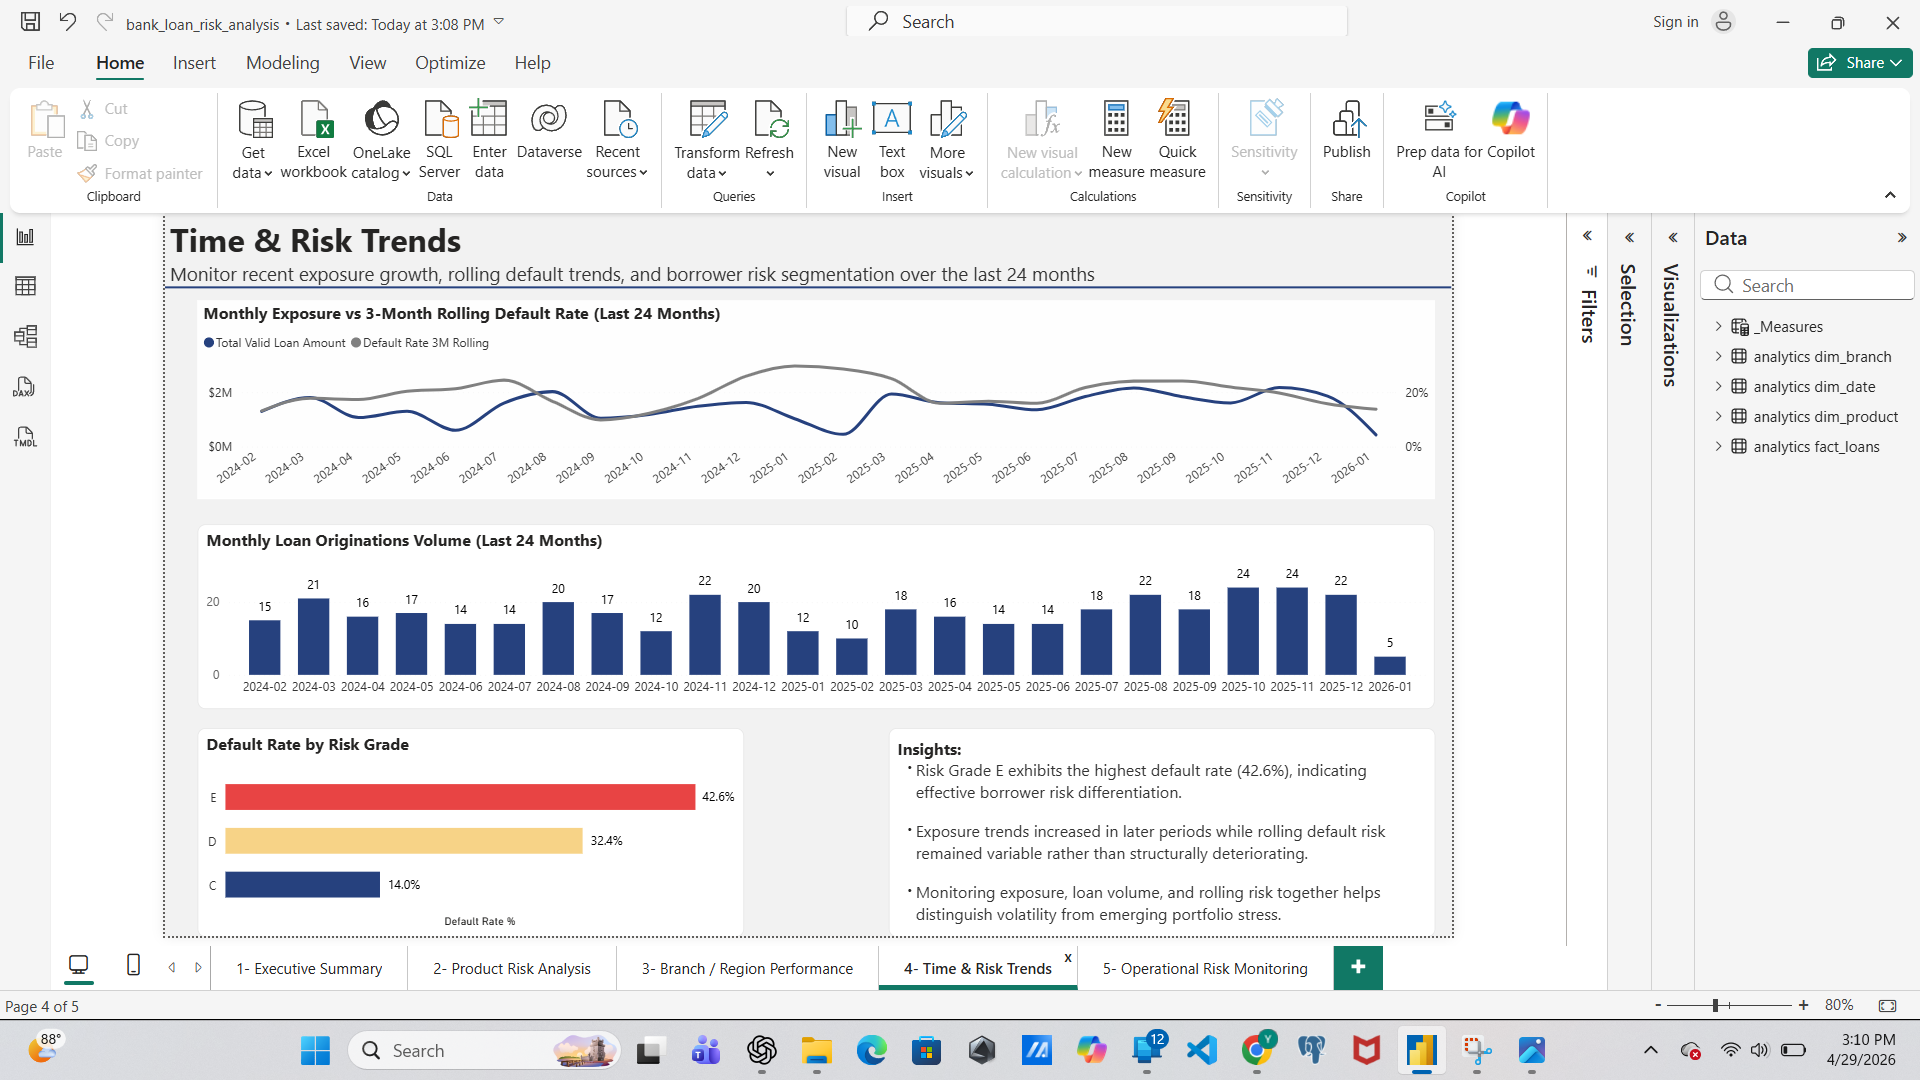

Layout of this report page (visuals, bound fields, positions):
{"tool":"powerbi","page":{"name":"4- Time & Risk Trends","canvas":[1280,720],"ordinal":3},"visuals":[{"type":"shape","box":[0,0,1280,148],"z":0},{"type":"shape","box":[0,0,1280,80],"z":1000},{"type":"textbox","box":[0,0,1280,80],"z":2000},{"type":"clusteredBarChart","title":"Default Rate by Risk Grade","fields":{"Category":["analytics fact_loans.risk_grade"],"Y":["_Measures.Default Rate %"]},"box":[32.3,512.3,543.6,207.7],"z":3000},{"type":"clusteredColumnChart","title":"Monthly Loan Originations Volume (Last 24 Months)","fields":{"Category":["analytics dim_date.year_month"],"Y":["_Measures.Total Loans"]},"box":[32.8,309.7,1231.5,184.1],"z":4000},{"type":"lineChart","title":"Monthly Exposure vs 3-Month Rolling Default Rate (Last 24 Months)","fields":{"Category":["analytics dim_date.year_month"],"Y":["_Measures.Total Valid Loan Amount"],"Y2":["_Measures.Default Rate 3M Rolling"]},"box":[32.3,87,1231.5,197.8],"z":5000},{"type":"textbox","box":[720.3,512.3,543.6,207.7],"z":6000}]}

Visuals, with their boxes on the page's 1280x720 design canvas (x1, y1, x2, y2). These are canvas units, not pixel positions in the 1920x1080 screenshot, which may show the page scaled, cropped or inside an application window:
shape: x1=0 y1=0 x2=1280 y2=148
shape: x1=0 y1=0 x2=1280 y2=80
textbox: x1=0 y1=0 x2=1280 y2=80
"Default Rate by Risk Grade" clusteredBarChart: x1=32 y1=512 x2=576 y2=720
"Monthly Loan Originations Volume (Last 24 Months)" clusteredColumnChart: x1=33 y1=310 x2=1264 y2=494
"Monthly Exposure vs 3-Month Rolling Default Rate (Last 24 Months)" lineChart: x1=32 y1=87 x2=1264 y2=285
textbox: x1=720 y1=512 x2=1264 y2=720
